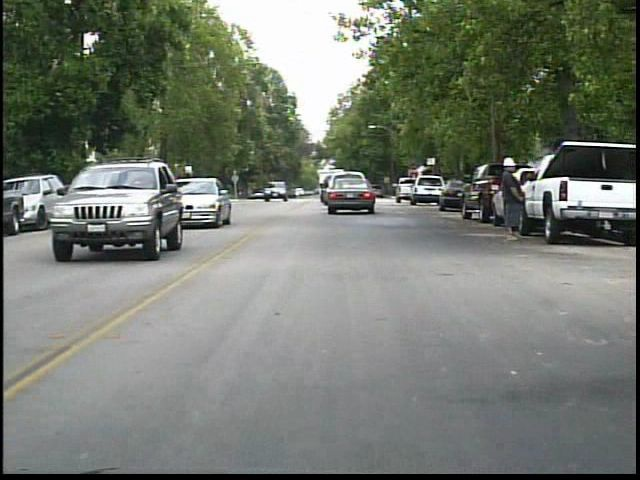person: (496, 153, 527, 243)
